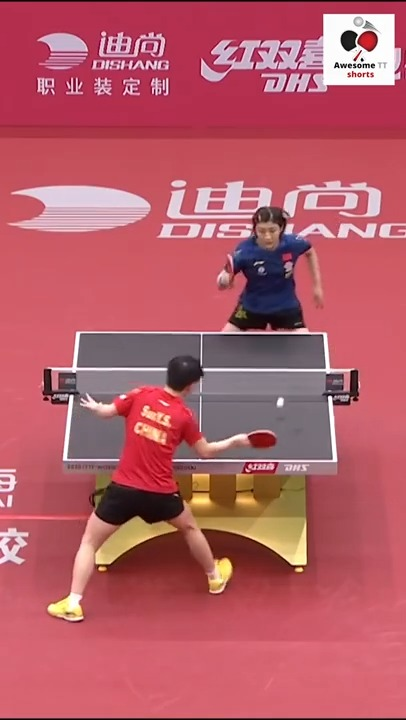Ball: (274, 396, 287, 409)
